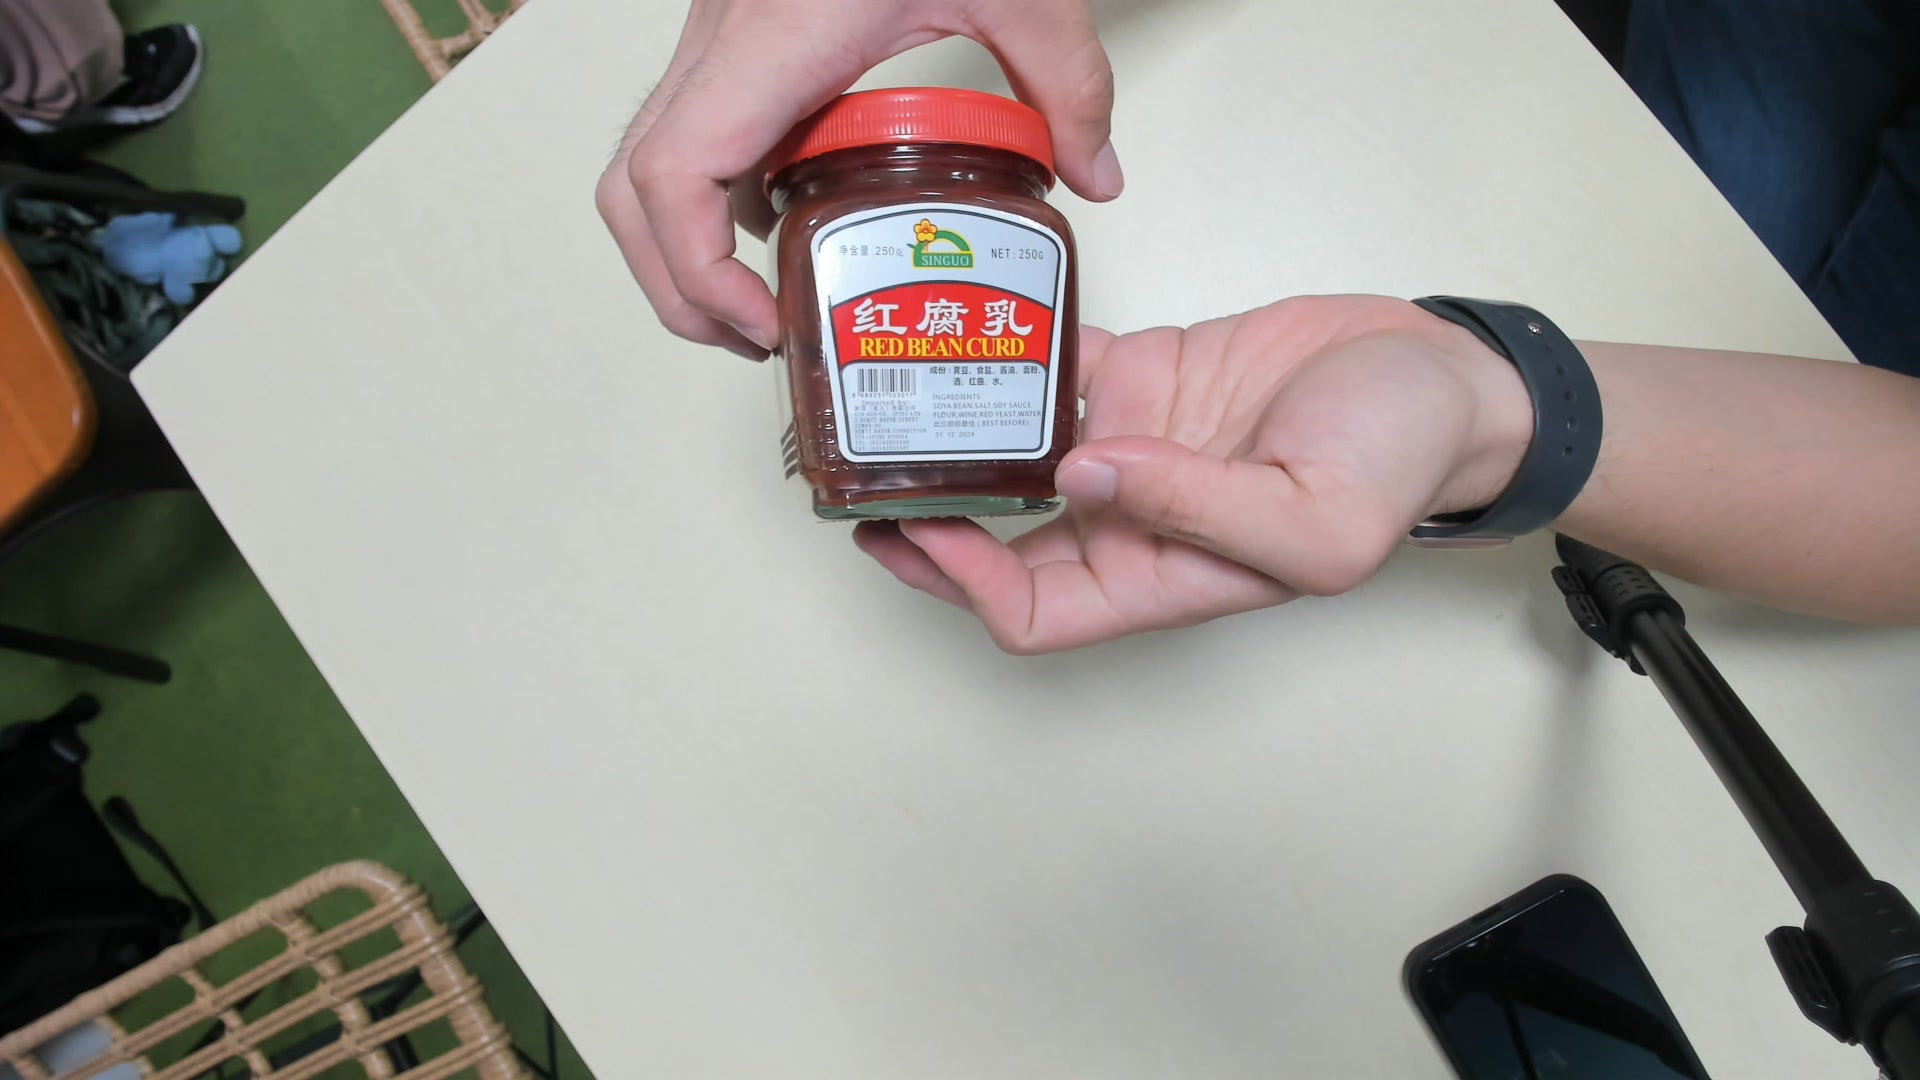OtherSauceDressing_200-299g_NonHalal_NonHealthy: (767, 91, 1077, 530)
